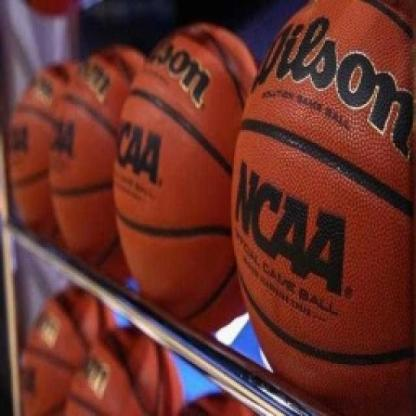basketball: (227, 0, 416, 416), (109, 24, 278, 322), (46, 41, 157, 289), (4, 53, 80, 251), (14, 283, 111, 416), (59, 325, 187, 416)
